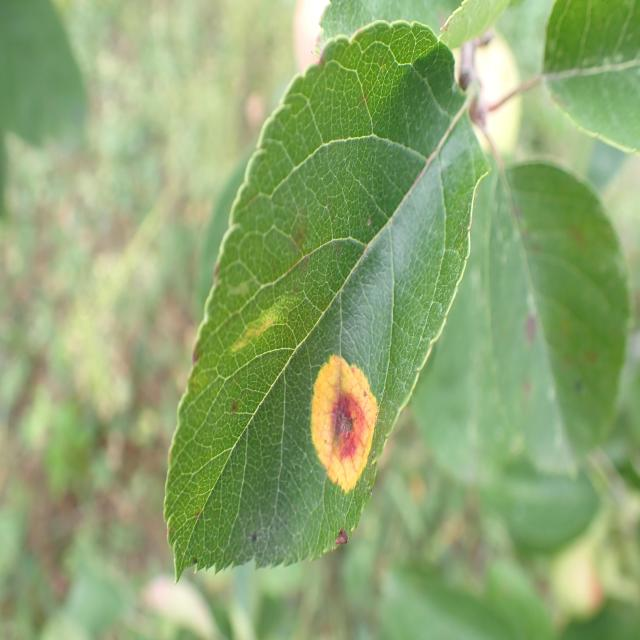rust: (163, 20, 495, 587)
